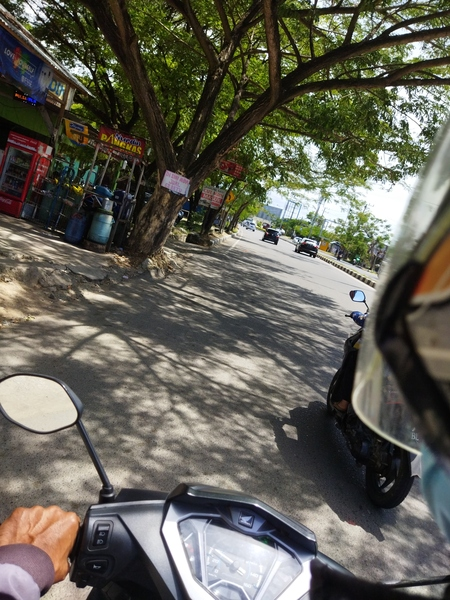car: (293, 233, 320, 264), (263, 224, 282, 250)
